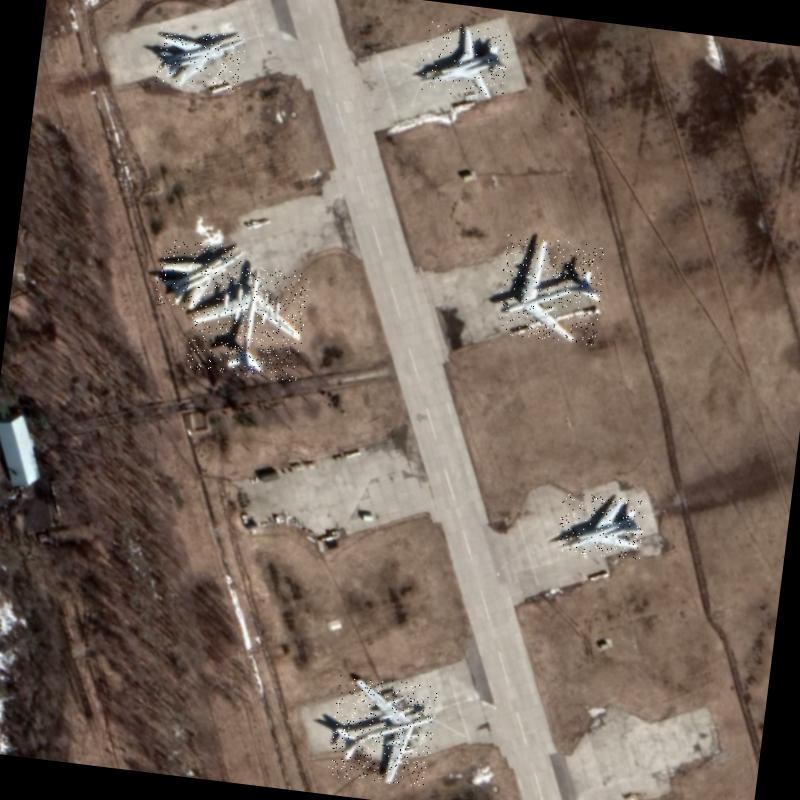A12: (416, 20, 511, 101), (154, 238, 244, 316), (554, 490, 646, 560), (154, 26, 246, 93)
A17: (184, 258, 310, 382), (326, 674, 438, 788), (495, 234, 607, 346)
